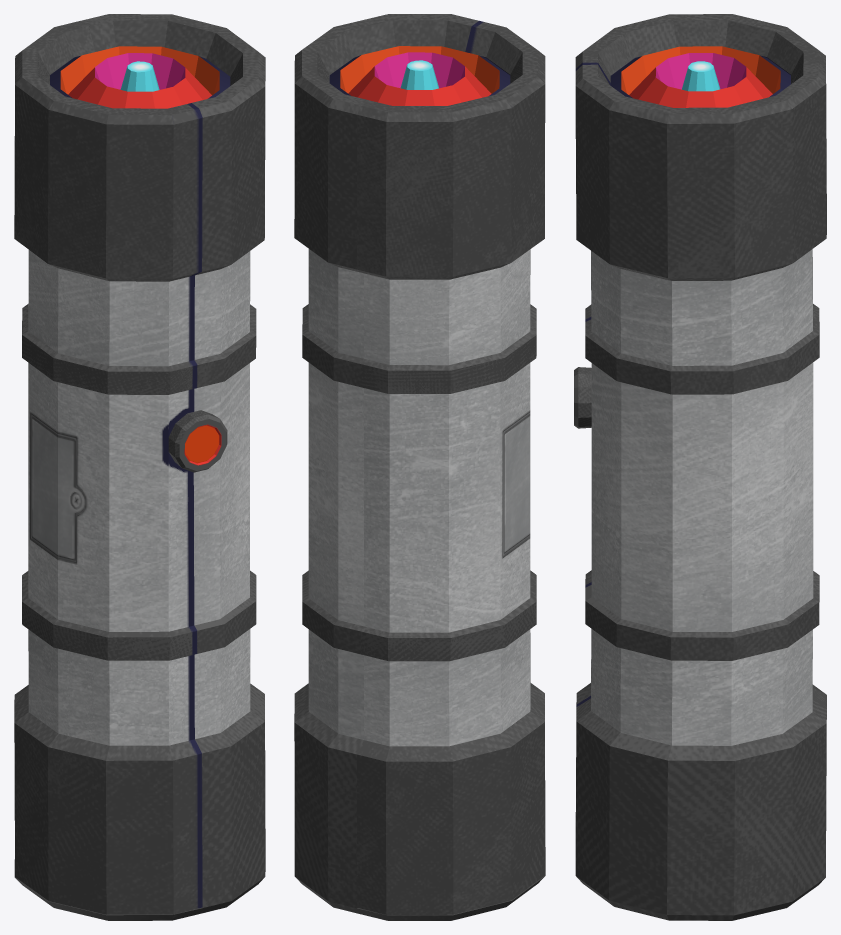
The model's file is TimeMachine.fbx.
The picture shows the model from 3 angles, left to right: view 1: azimuth 30°, elevation 25°; view 2: azimuth 150°, elevation 25°; view 3: azimuth 270°, elevation 25°; orthographic projection.
Parts seen in each view (by area): view 1: LEFT, RIGHT; view 2: LEFT, RIGHT; view 3: RIGHT, LEFT.
Part boxes in pixels (x1,y1,x2,y2): LEFT: (14, 20, 202, 914); RIGHT: (14, 14, 265, 920); LEFT: (357, 20, 545, 914); RIGHT: (294, 14, 545, 920); RIGHT: (574, 46, 826, 920); LEFT: (575, 14, 826, 816).
Bounding box in the file's own units: 9.05 × 32.17 × 9.12.
Materials: 2 (2 with a texture image).
